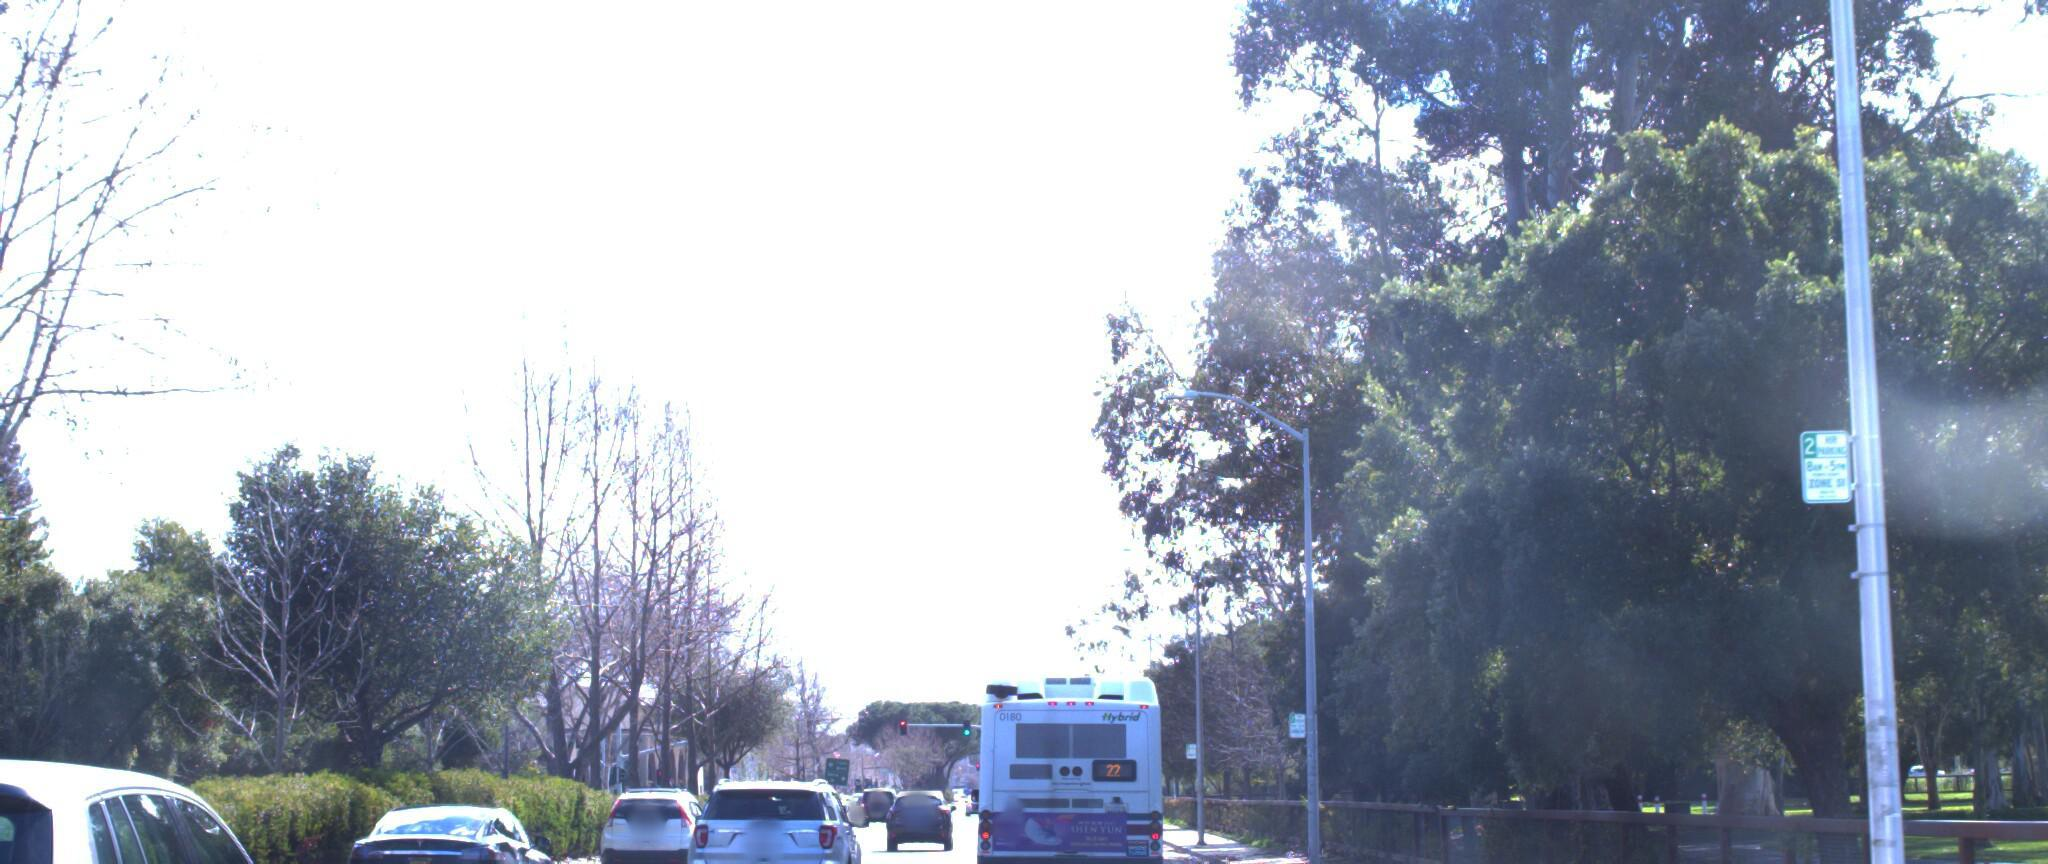bus: (947, 656, 1161, 864)
car: (0, 732, 371, 864), (673, 780, 861, 864), (338, 805, 558, 864), (586, 779, 722, 864), (889, 790, 960, 863)
